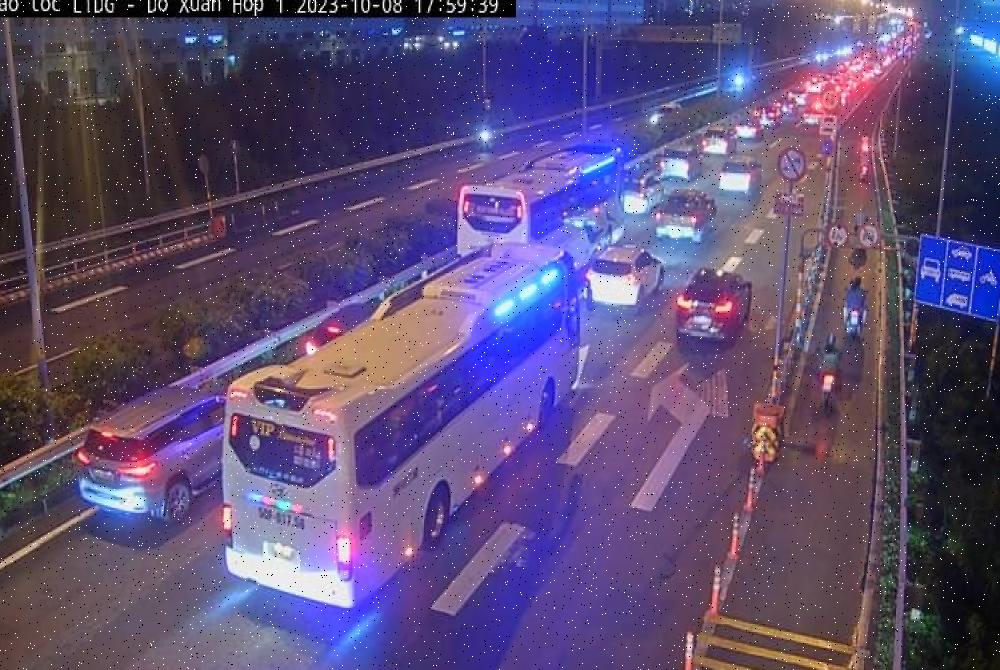bus: (220, 245, 581, 608), (457, 140, 628, 271)
car: (82, 385, 226, 522), (672, 265, 751, 345)
